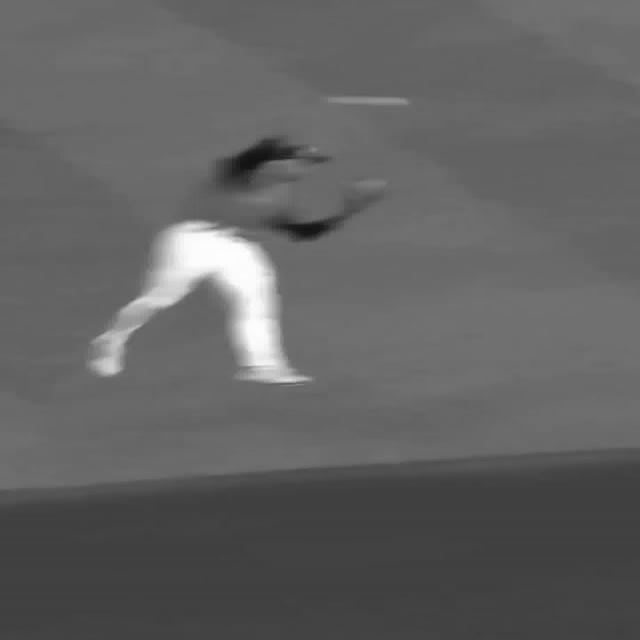baseball: (326, 95, 410, 106)
baseball_glove: (341, 177, 385, 210)
shoe: (88, 334, 126, 376), (235, 365, 313, 385)
